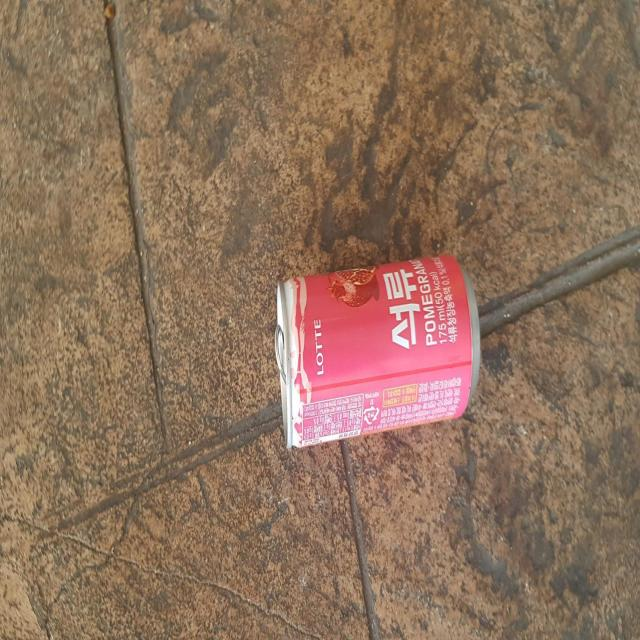can: (275, 254, 481, 448)
